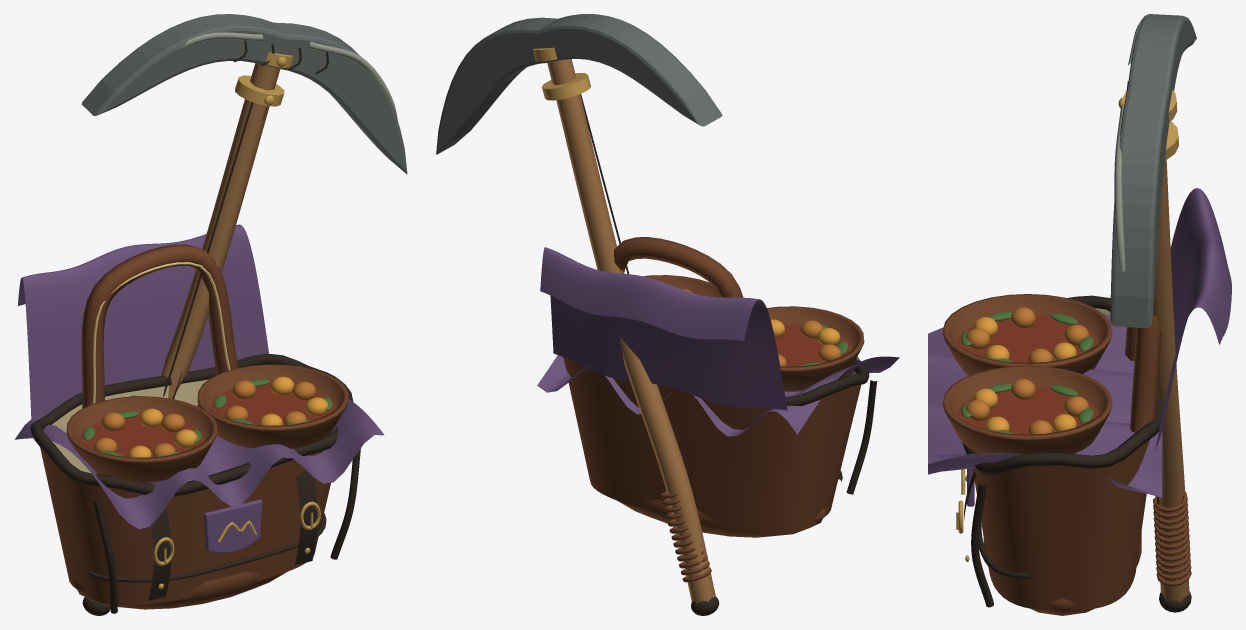
The model's file is prospectors_kit.glb.
3 views of the same model, side by side, from view 1: azimuth 30°, elevation 25°; view 2: azimuth 150°, elevation 25°; view 3: azimuth 270°, elevation 25° (orthographic). The views are drawn at different scales.
Visible parts, largest first — view 1: kit-batch-saddle-leather, kit-batch-dyed-linen, kit-batch-tool-head, kit-batch-seams-and-grip, kit-batch-oiled-ash, kit-batch-roasted-meal, kit-batch-baked-crust, kit-batch-aged-brass, kit-batch-golden-vegetables, kit-batch-cream-lining, kit-batch-tool-edge, kit-batch-waxed-thread (+1 smaller); view 2: kit-batch-saddle-leather, kit-batch-dyed-linen, kit-batch-tool-head, kit-batch-oiled-ash, kit-batch-seams-and-grip, kit-batch-roasted-meal, kit-batch-aged-brass, kit-batch-baked-crust; view 3: kit-batch-saddle-leather, kit-batch-dyed-linen, kit-batch-tool-head, kit-batch-oiled-ash, kit-batch-seams-and-grip, kit-batch-roasted-meal, kit-batch-baked-crust, kit-batch-golden-vegetables, kit-batch-garden-garnish, kit-batch-tool-edge, kit-batch-aged-brass.
Part boxes in pixels (x1,y1,x2,y2): kit-batch-saddle-leather: [40, 244, 348, 609]; kit-batch-dyed-linen: [15, 224, 384, 553]; kit-batch-tool-head: [81, 14, 407, 174]; kit-batch-seams-and-grip: [30, 40, 360, 615]; kit-batch-oiled-ash: [91, 63, 280, 600]; kit-batch-roasted-meal: [79, 383, 335, 457]; kit-batch-baked-crust: [94, 380, 315, 457]; kit-batch-aged-brass: [153, 52, 320, 589]; kit-batch-golden-vegetables: [128, 376, 328, 457]; kit-batch-cream-lining: [51, 379, 208, 480]; kit-batch-tool-edge: [179, 32, 397, 119]; kit-batch-waxed-thread: [92, 262, 230, 403]; kit-batch-saddle-leather: [563, 237, 864, 582]; kit-batch-dyed-linen: [537, 247, 899, 436]; kit-batch-tool-head: [436, 14, 722, 154]; kit-batch-oiled-ash: [547, 59, 715, 603]; kit-batch-seams-and-grip: [580, 94, 877, 615]; kit-batch-roasted-meal: [775, 324, 851, 366]; kit-batch-aged-brass: [532, 47, 590, 100]; kit-batch-baked-crust: [682, 289, 841, 366]; kit-batch-saddle-leather: [943, 294, 1191, 615]; kit-batch-dyed-linen: [928, 188, 1231, 506]; kit-batch-tool-head: [1110, 14, 1196, 328]; kit-batch-oiled-ash: [1153, 160, 1189, 602]; kit-batch-seams-and-grip: [962, 81, 1191, 612]; kit-batch-roasted-meal: [957, 315, 1098, 434]; kit-batch-baked-crust: [966, 307, 1088, 434]; kit-batch-golden-vegetables: [973, 317, 1076, 432]; kit-batch-garden-garnish: [961, 311, 1093, 433]; kit-batch-tool-edge: [1114, 18, 1142, 273]; kit-batch-aged-brass: [956, 90, 1178, 561].
Bounding box in the file's own units: 0.7793 × 1.1 × 0.4732.
